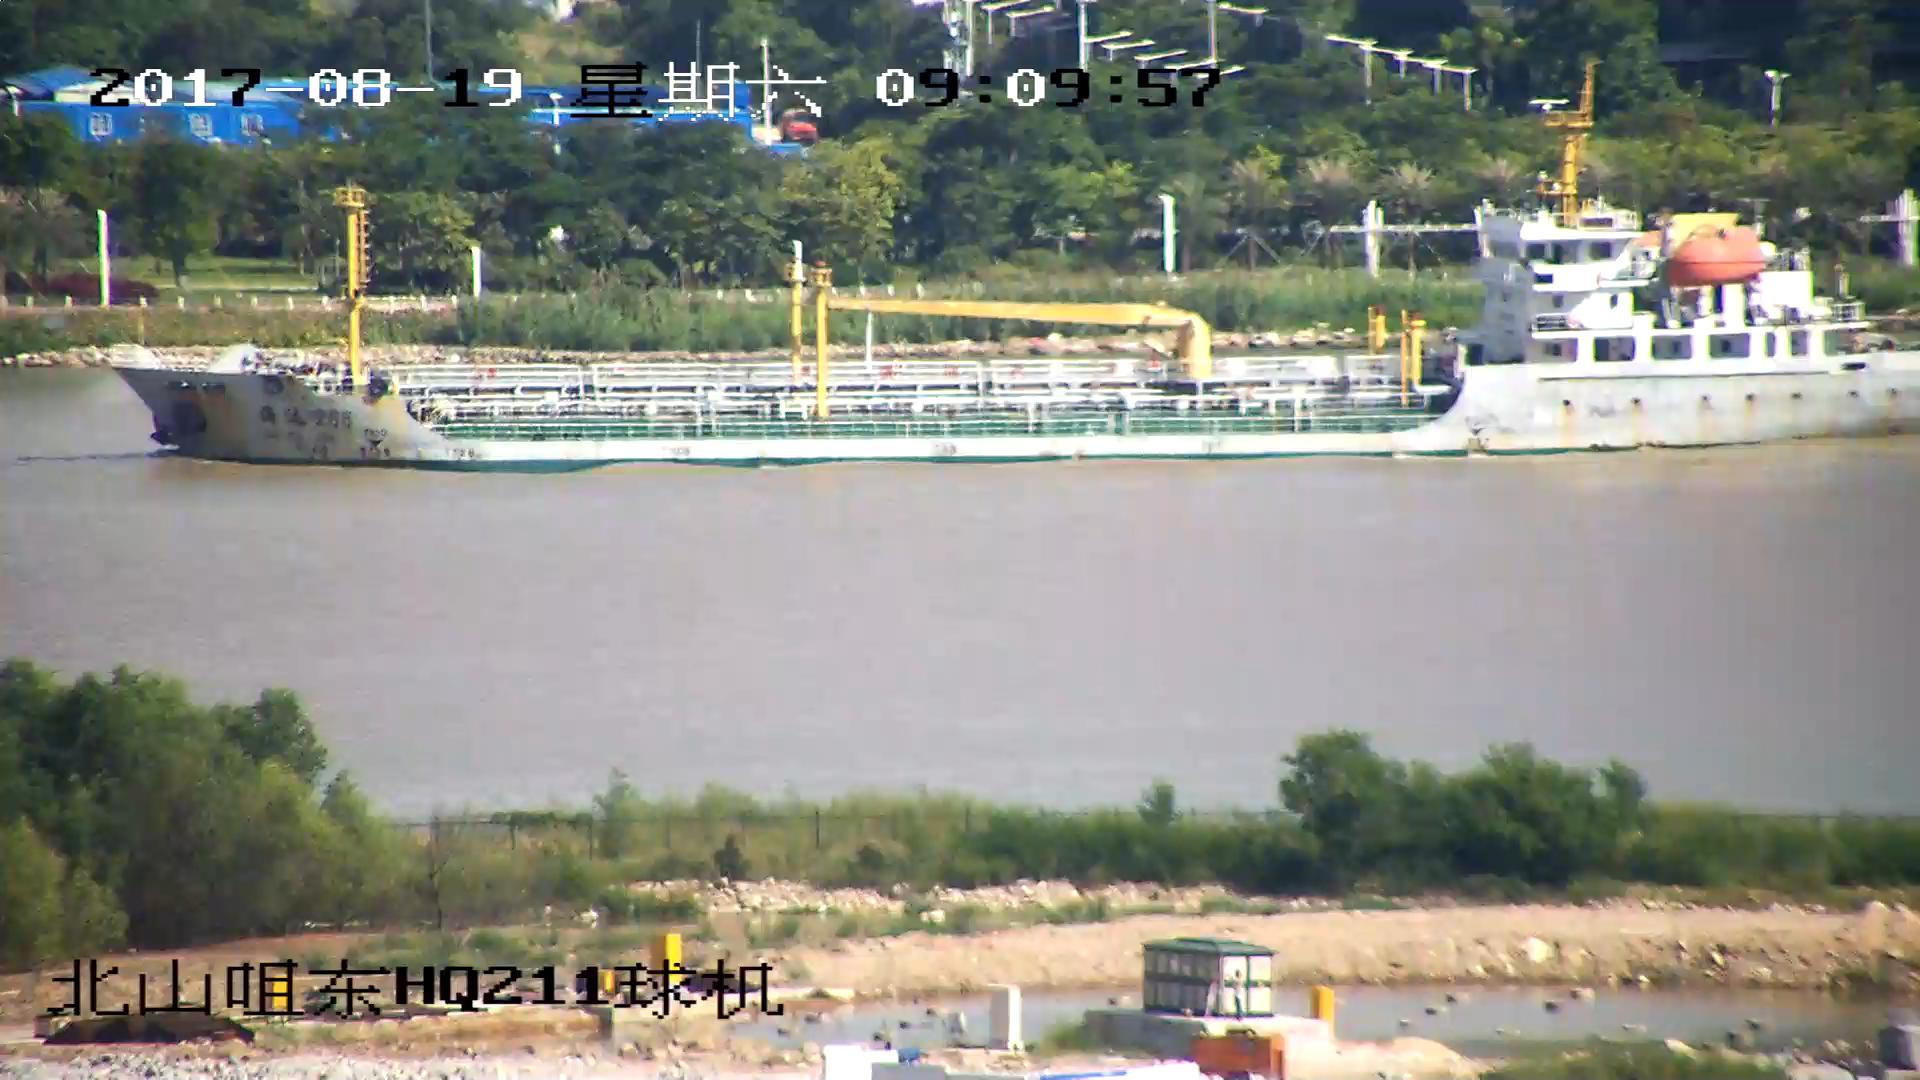general cargo ship: (99, 108, 1920, 464)
